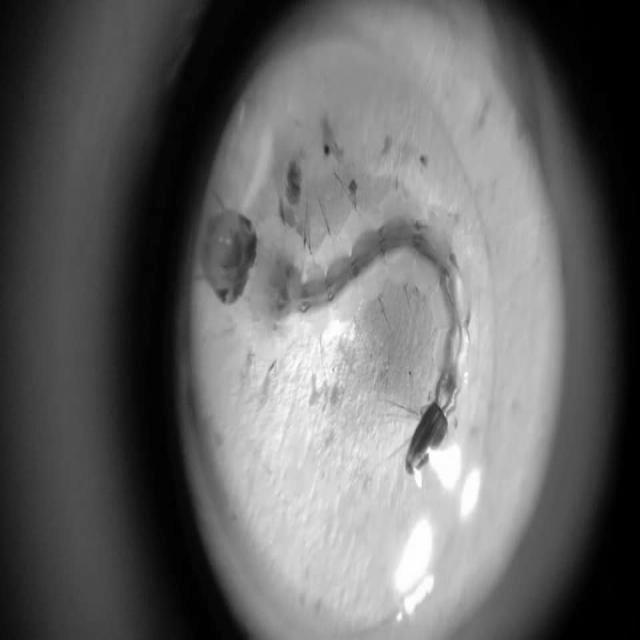larvas: (207, 177, 468, 468)
